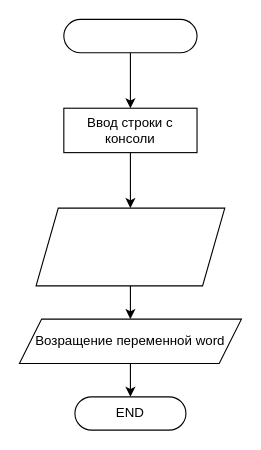
Some shapes in this 261 by 450 pixel diagram are drawn without their labels. Here are the shapes that lost their labels. From the top down, the box of each, then its label:
(63, 18, 197, 53): Вegin
(35, 207, 225, 286): Присвоение введенной строки переменной word
